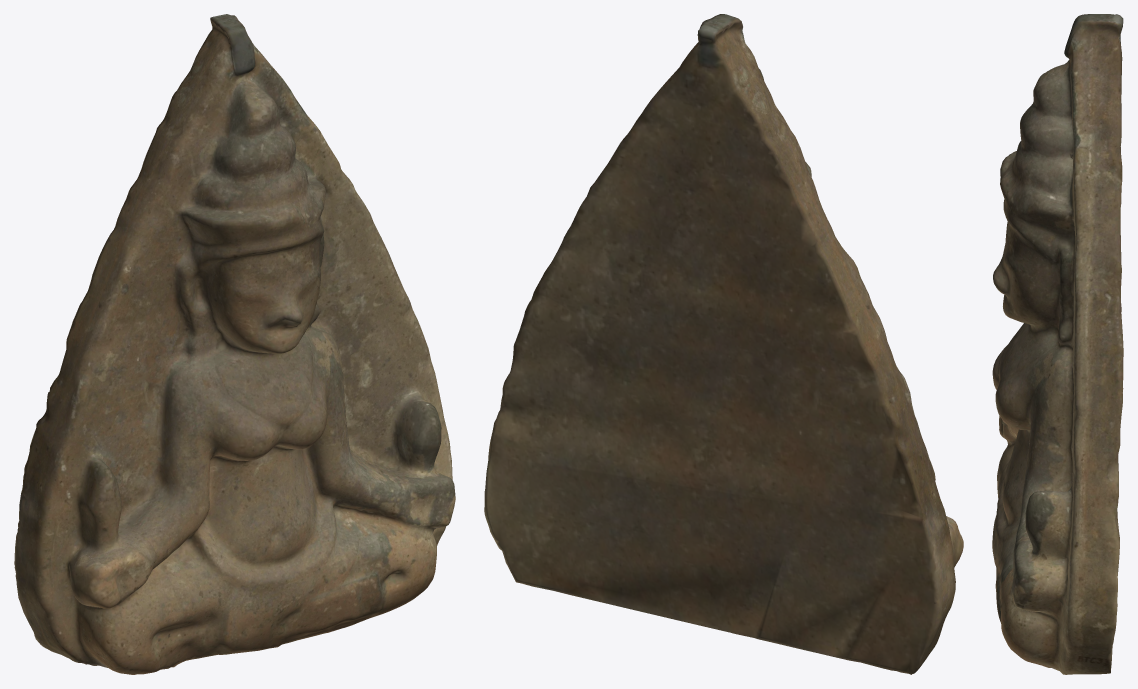
Rendered from 32_laskmi_final.glb.
3 renders of one model, left to right at view 1: azimuth 30°, elevation 25°; view 2: azimuth 150°, elevation 25°; view 3: azimuth 270°, elevation 25°, orthographic. The views are drawn at different scales.
Size of the model in its own units: 0.3925 by 0.5221 by 0.1068.
1 material, 1 textured.
